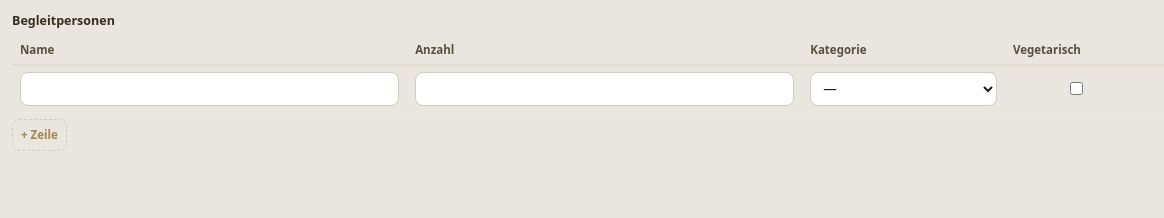
FieldInput – Tabelle, „+ Zeile" › takes „+ Zeile" off the screen once the Obergrenze is reached
Click the button "+ Zeile". click: (39, 135)
box: x1=12 y1=119 x2=67 y2=151
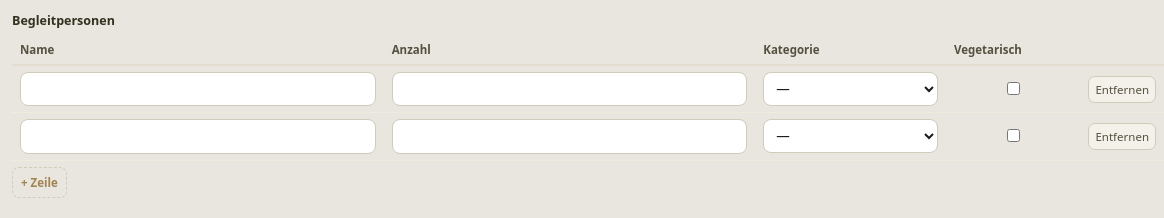
Click the button "+ Zeile". click: (39, 182)
box: x1=12 y1=166 x2=67 y2=198
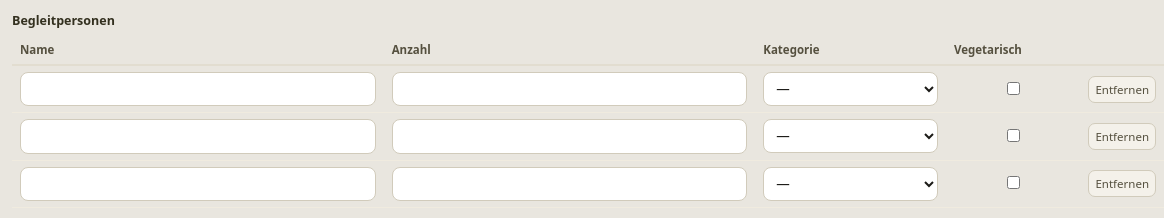
Expected: the number of fields named "Name, Zeile" is 3, x1=20 y1=72 x2=376 y2=106; x1=20 y1=119 x2=376 y2=154; x1=20 y1=166 x2=376 y2=201
Expected: the button "+ Zeile" is gone
